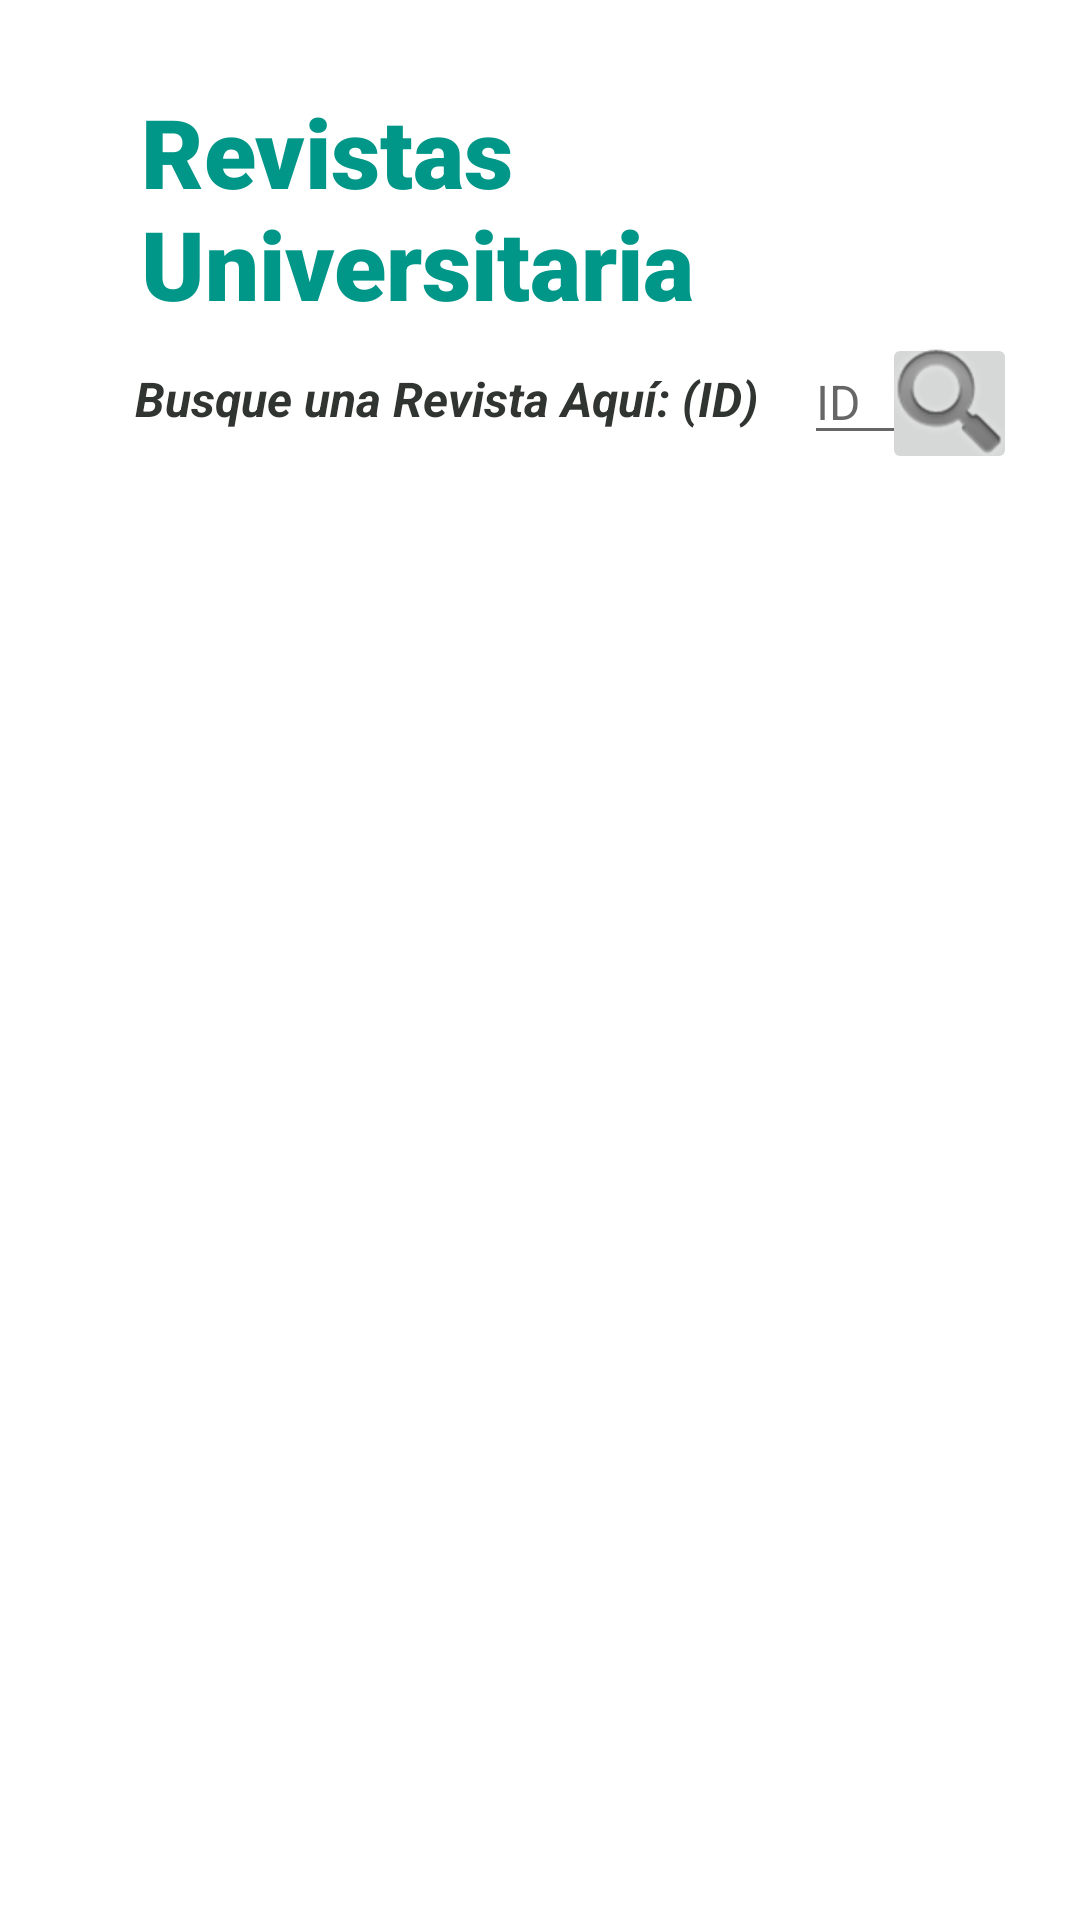

Screen size 1080 x 1920. Icon name, then its center in pixels as (x,y):
search category: (943,402)
